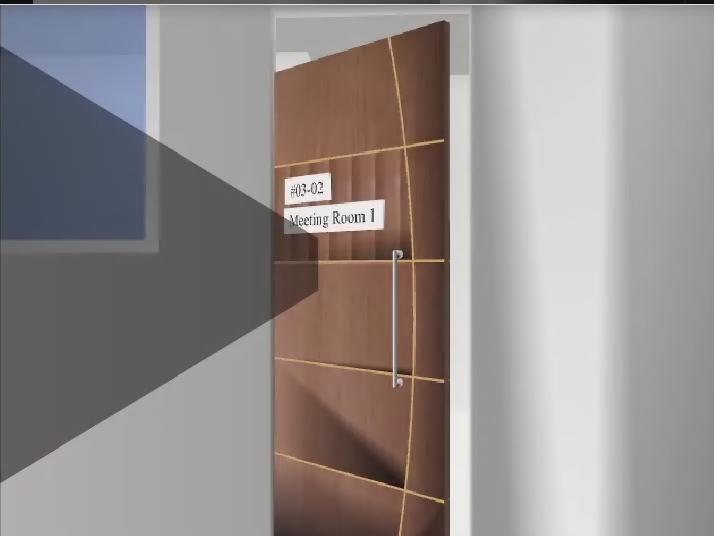door: (274, 20, 450, 536)
